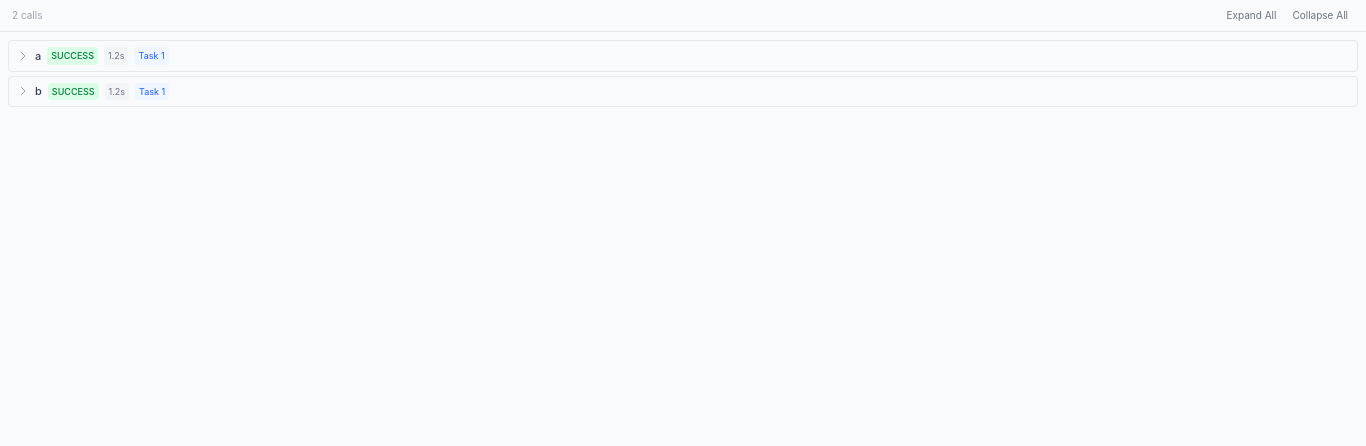
ToolCallDetailPanel › expand/collapse › Collapse All button collapses all cards
Click the button with test id "tool-detail-expand-all" at {"x": 1251, "y": 16}, box [1220,6,1282,25]
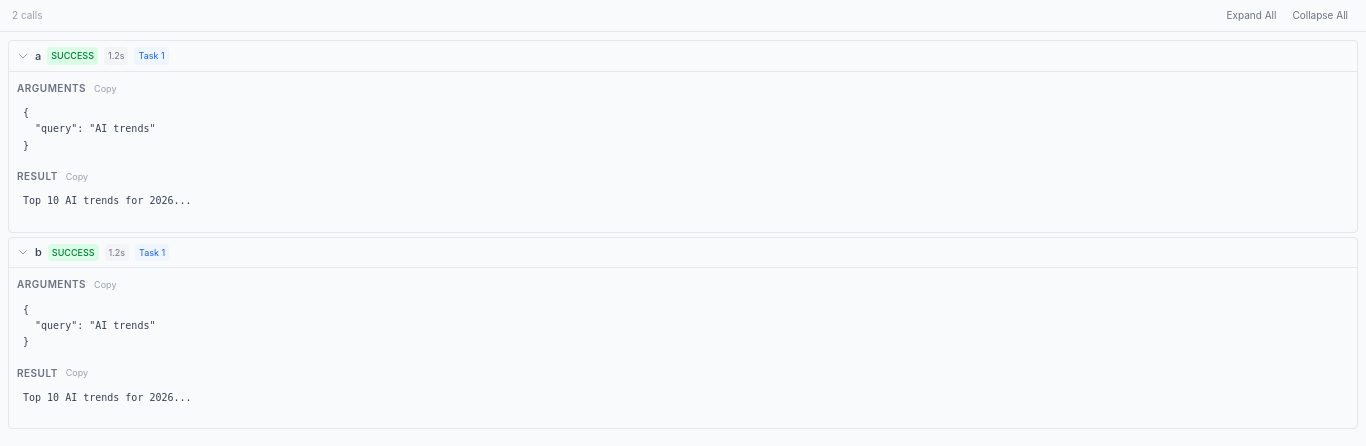
Expected: the number of elements with test id "tool-call-card-body" is 2, [9,70,1357,232]; [9,267,1357,428]
Click the button with test id "tool-detail-collapse-all" at {"x": 1320, "y": 16}, box [1286,6,1354,25]
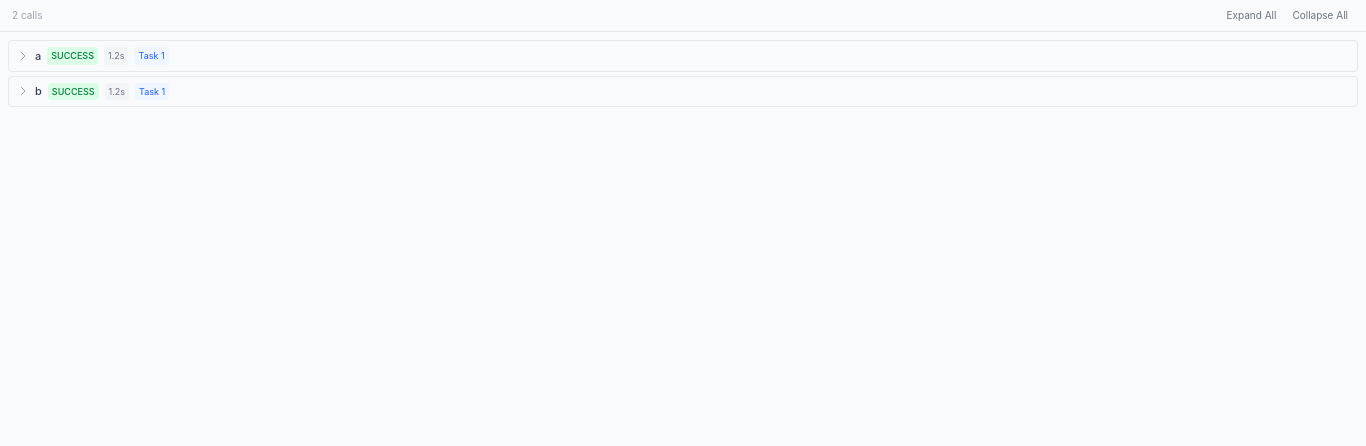
Expected: no elements with test id "tool-call-card-body" are shown
